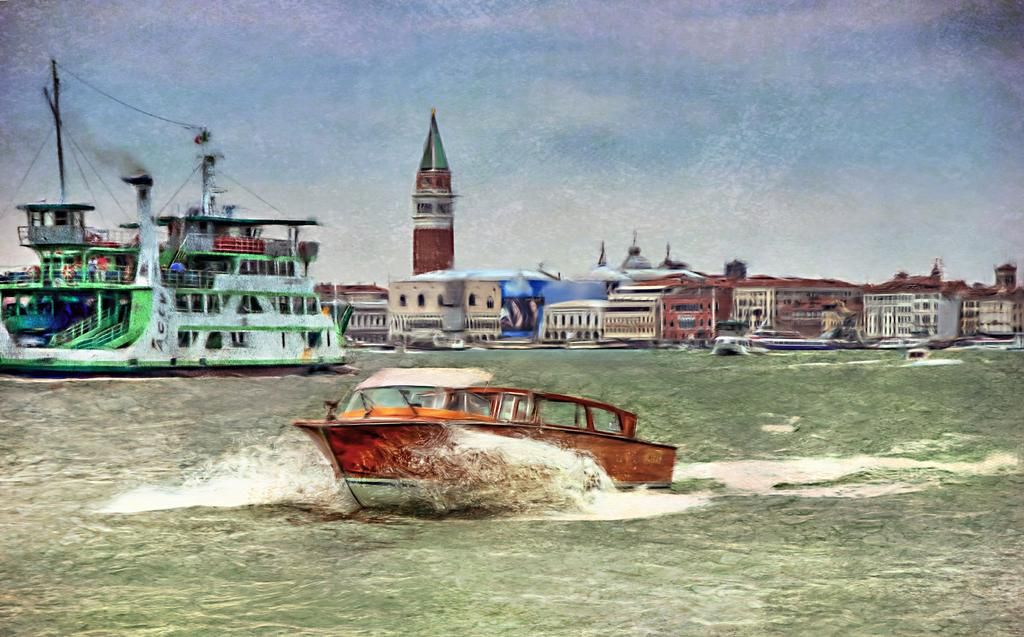PassengerShip: (0, 138, 356, 380)
